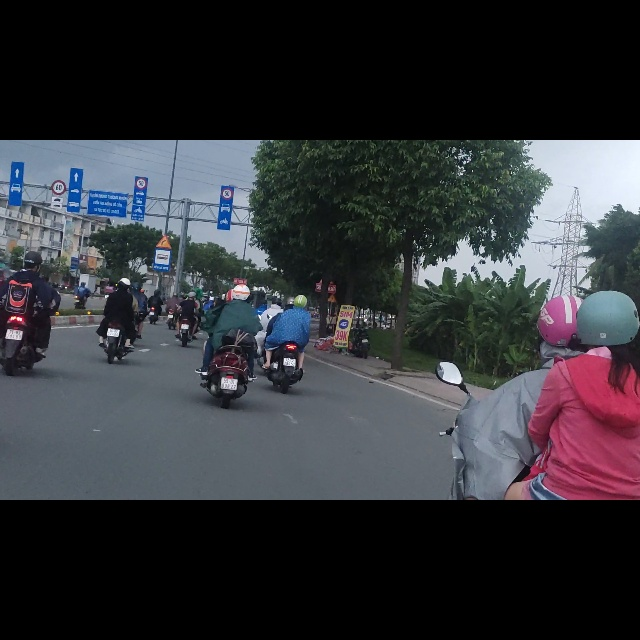bien_chi_dan: (153, 192, 171, 233), (155, 168, 172, 194), (51, 71, 66, 98), (51, 100, 63, 124), (222, 85, 234, 105), (135, 68, 147, 87)
